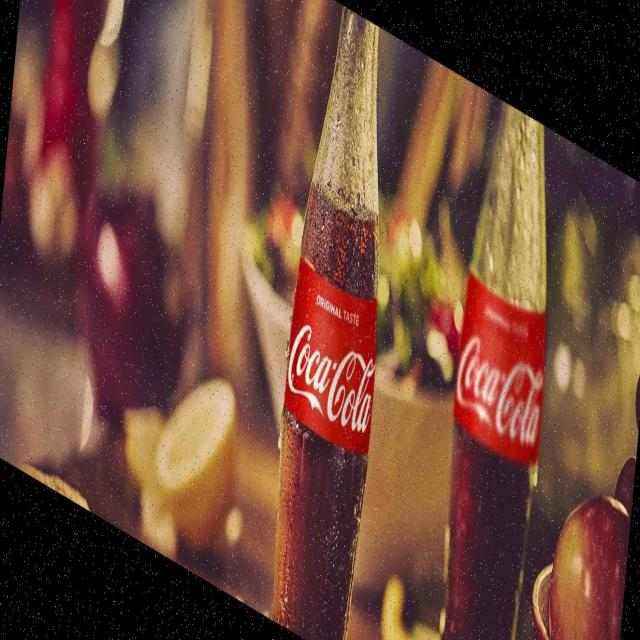coca-cola: (261, 0, 408, 640), (422, 85, 572, 640)
